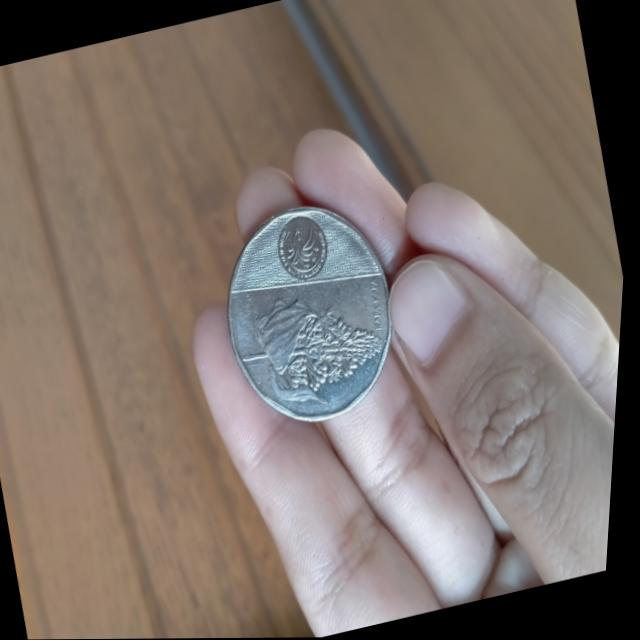10_New_Back: (216, 265, 407, 425)
